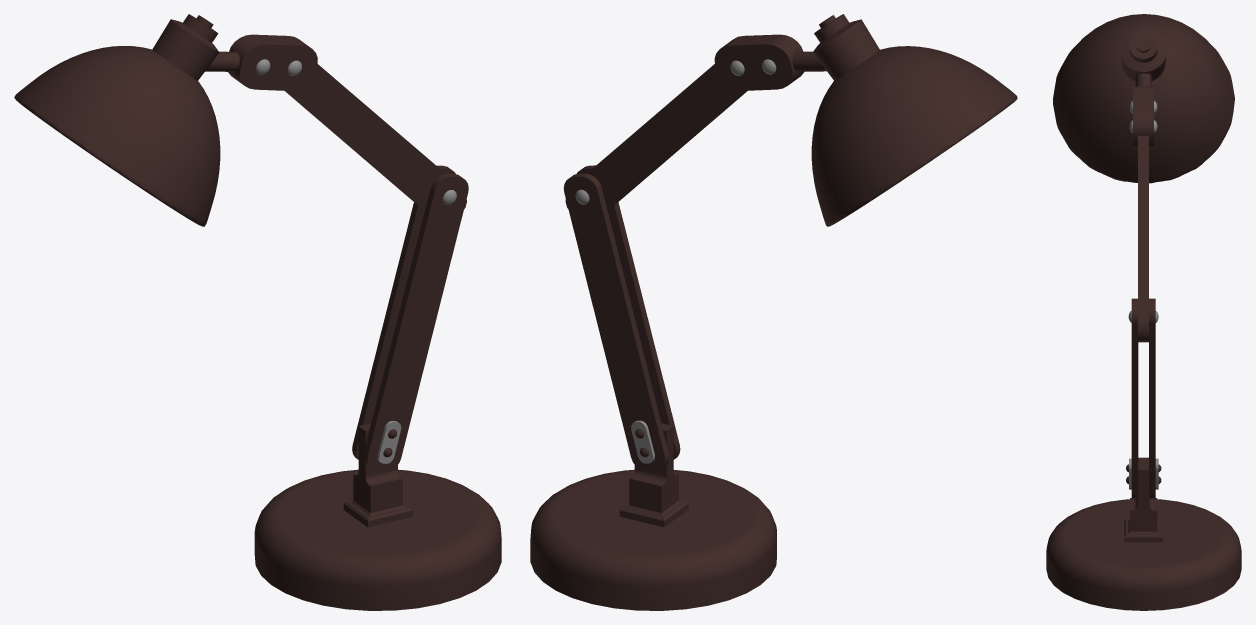
Rendered from LampeBureau1_2.fbx.
The picture shows the model from 3 angles, left to right: view 1: azimuth 30°, elevation 25°; view 2: azimuth 150°, elevation 25°; view 3: azimuth 270°, elevation 25°; orthographic projection. The views are drawn at different scales.
Parts seen in each view (by area): view 1: pCylinder739, pSphere113, pCube1980, pCube1993, pCube1994, pCube1978, pCube1964; view 2: pCylinder739, pSphere113, pCube1978, pCube1993, pCube1994, pCube1980, pCube1964; view 3: pSphere113, pCylinder739, pCube1993, pCube1964, pCube1980, pCube1978, pCube1994, pCylinder752.
Boxes of the visible parts, bbox=[...] form: pCylinder739: bbox=[254, 469, 501, 610]; pSphere113: bbox=[14, 19, 220, 226]; pCube1980: bbox=[363, 173, 468, 472]; pCube1993: bbox=[285, 64, 466, 210]; pCube1994: bbox=[228, 34, 317, 90]; pCube1978: bbox=[352, 165, 455, 459]; pCube1964: bbox=[343, 423, 412, 527]; pCylinder739: bbox=[530, 470, 776, 610]; pSphere113: bbox=[811, 19, 1017, 226]; pCube1978: bbox=[563, 173, 669, 471]; pCube1993: bbox=[565, 64, 747, 210]; pCube1994: bbox=[714, 34, 804, 90]; pCube1980: bbox=[576, 165, 680, 459]; pCube1964: bbox=[619, 423, 688, 527]; pSphere113: bbox=[1053, 14, 1234, 183]; pCylinder739: bbox=[1046, 499, 1241, 610]; pCube1993: bbox=[1138, 135, 1148, 342]; pCube1964: bbox=[1124, 457, 1162, 542]; pCube1980: bbox=[1131, 298, 1138, 498]; pCube1978: bbox=[1149, 298, 1155, 498]; pCube1994: bbox=[1133, 86, 1153, 147]; pCylinder752: bbox=[1129, 33, 1157, 62].
Bounding box in the file's own units: 23.54 × 29.28 × 11.16.
